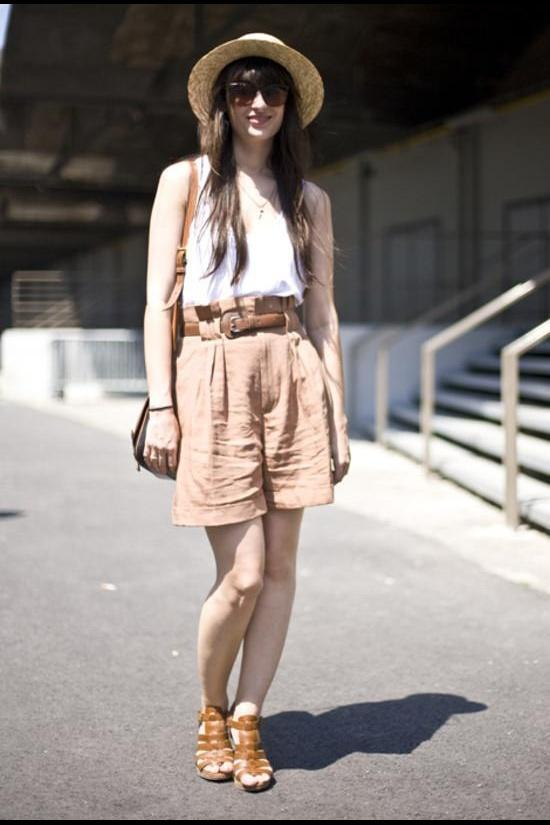Tshirt: (180, 152, 308, 308)
skirt: (171, 294, 352, 526)
